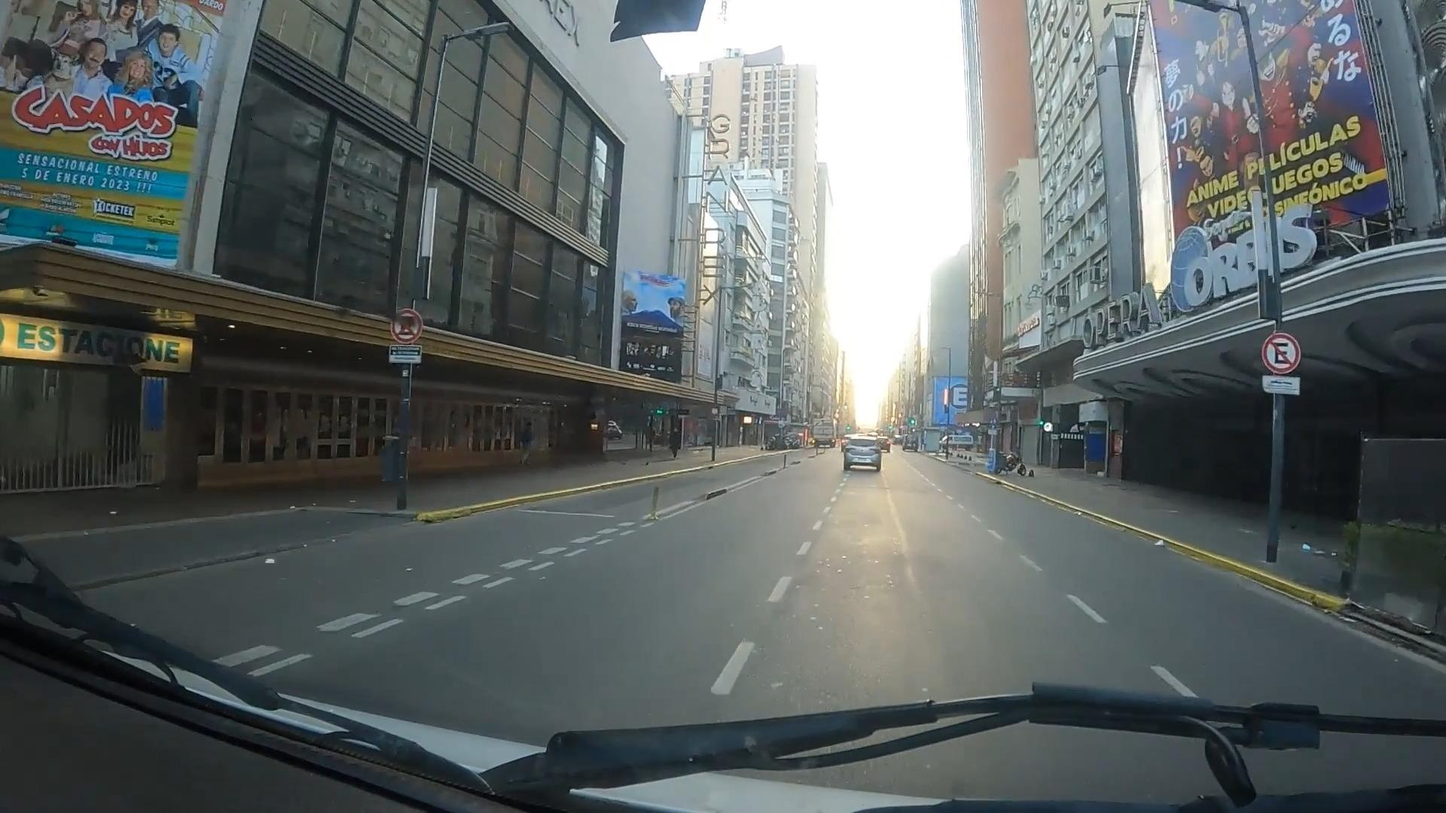Ice: (40, 443, 1445, 735)
